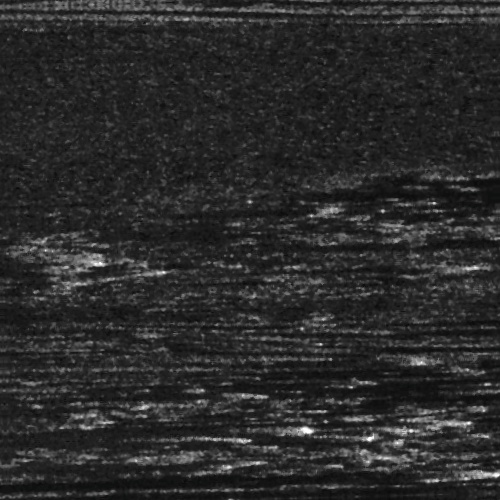object: (168, 377, 335, 404), (190, 418, 367, 435), (422, 470, 500, 481), (177, 430, 250, 441), (389, 265, 472, 274), (188, 459, 261, 468), (357, 359, 440, 366), (465, 383, 500, 398), (47, 253, 100, 262), (443, 369, 484, 378), (302, 205, 343, 214), (421, 420, 462, 427), (312, 497, 365, 500), (487, 242, 500, 251), (492, 345, 500, 356)
shadow: (0, 485, 500, 496), (0, 470, 479, 481), (98, 377, 252, 404), (215, 474, 500, 485), (307, 383, 500, 398), (124, 418, 279, 435), (255, 242, 500, 251), (216, 265, 430, 274), (354, 237, 500, 250), (363, 390, 500, 401), (317, 369, 463, 378), (176, 205, 322, 214), (440, 391, 500, 412), (391, 345, 500, 356), (250, 359, 398, 366), (136, 430, 213, 441), (147, 459, 224, 468), (0, 253, 73, 262), (368, 420, 441, 427), (399, 181, 500, 186), (260, 497, 339, 500), (470, 185, 500, 188)
